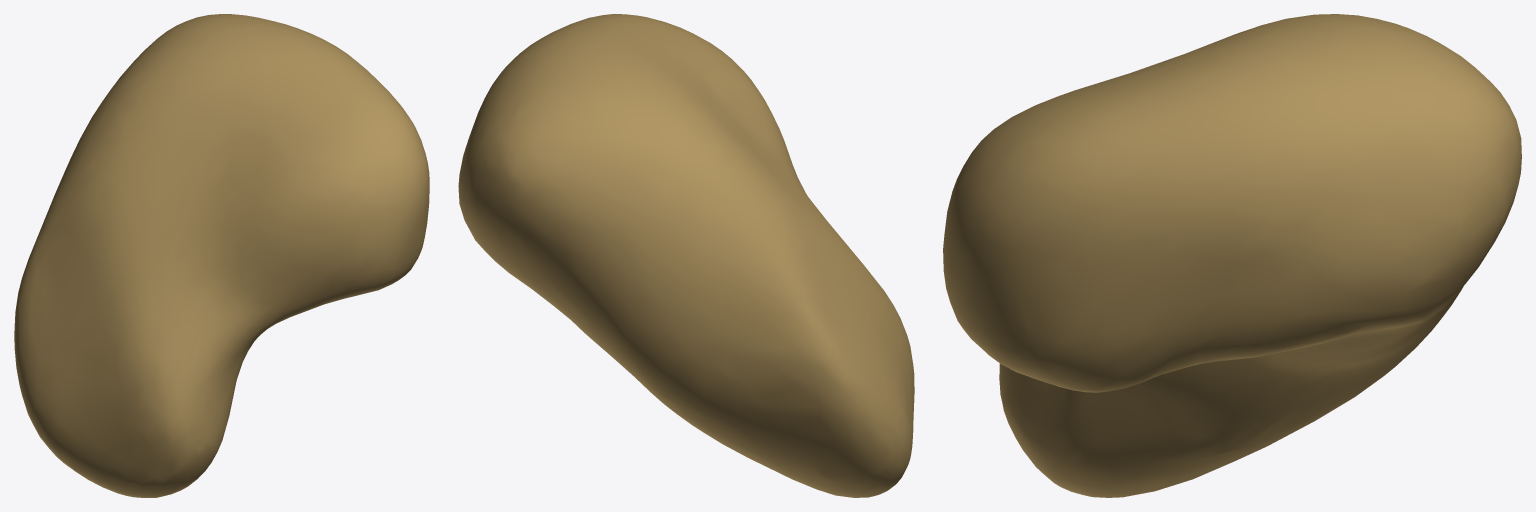
3 renders of one model, left to right at view 1: azimuth 30°, elevation 25°; view 2: azimuth 150°, elevation 25°; view 3: azimuth 270°, elevation 25°, orthographic. The views are drawn at different scales.
Visible parts, largest first — view 1: 右侧小脑扁桃体; view 2: 右侧小脑扁桃体; view 3: 右侧小脑扁桃体.
Part boxes in pixels (box(x1,y1,x2,y2)): 右侧小脑扁桃体: box(14, 14, 429, 497); 右侧小脑扁桃体: box(458, 14, 914, 497); 右侧小脑扁桃体: box(943, 14, 1521, 497).
Size of the model in its own units: 0.0321 by 0.033 by 0.0301.
